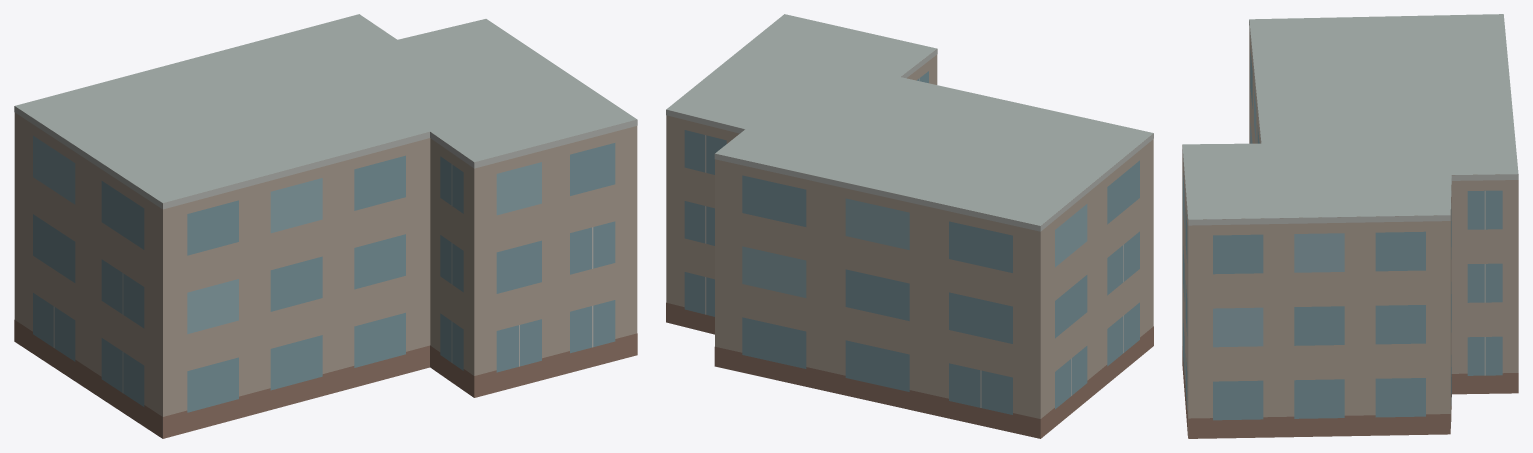
The model's file is survey-upis-32621243.glb.
3 views of the same model, side by side, from view 1: azimuth 30°, elevation 25°; view 2: azimuth 150°, elevation 25°; view 3: azimuth 270°, elevation 25° (orthographic). The views are drawn at different scales.
Parts seen in each view (by area): view 1: survey-upis-32621243.tmp; view 2: survey-upis-32621243.tmp; view 3: survey-upis-32621243.tmp.
Part boxes in pixels (left/top/right/bottom): survey-upis-32621243.tmp: left=14, top=14, right=637, bottom=438; survey-upis-32621243.tmp: left=666, top=14, right=1153, bottom=438; survey-upis-32621243.tmp: left=1182, top=14, right=1518, bottom=438.
Size of the model in its own units: 18.43 by 9.15 by 12.73.
